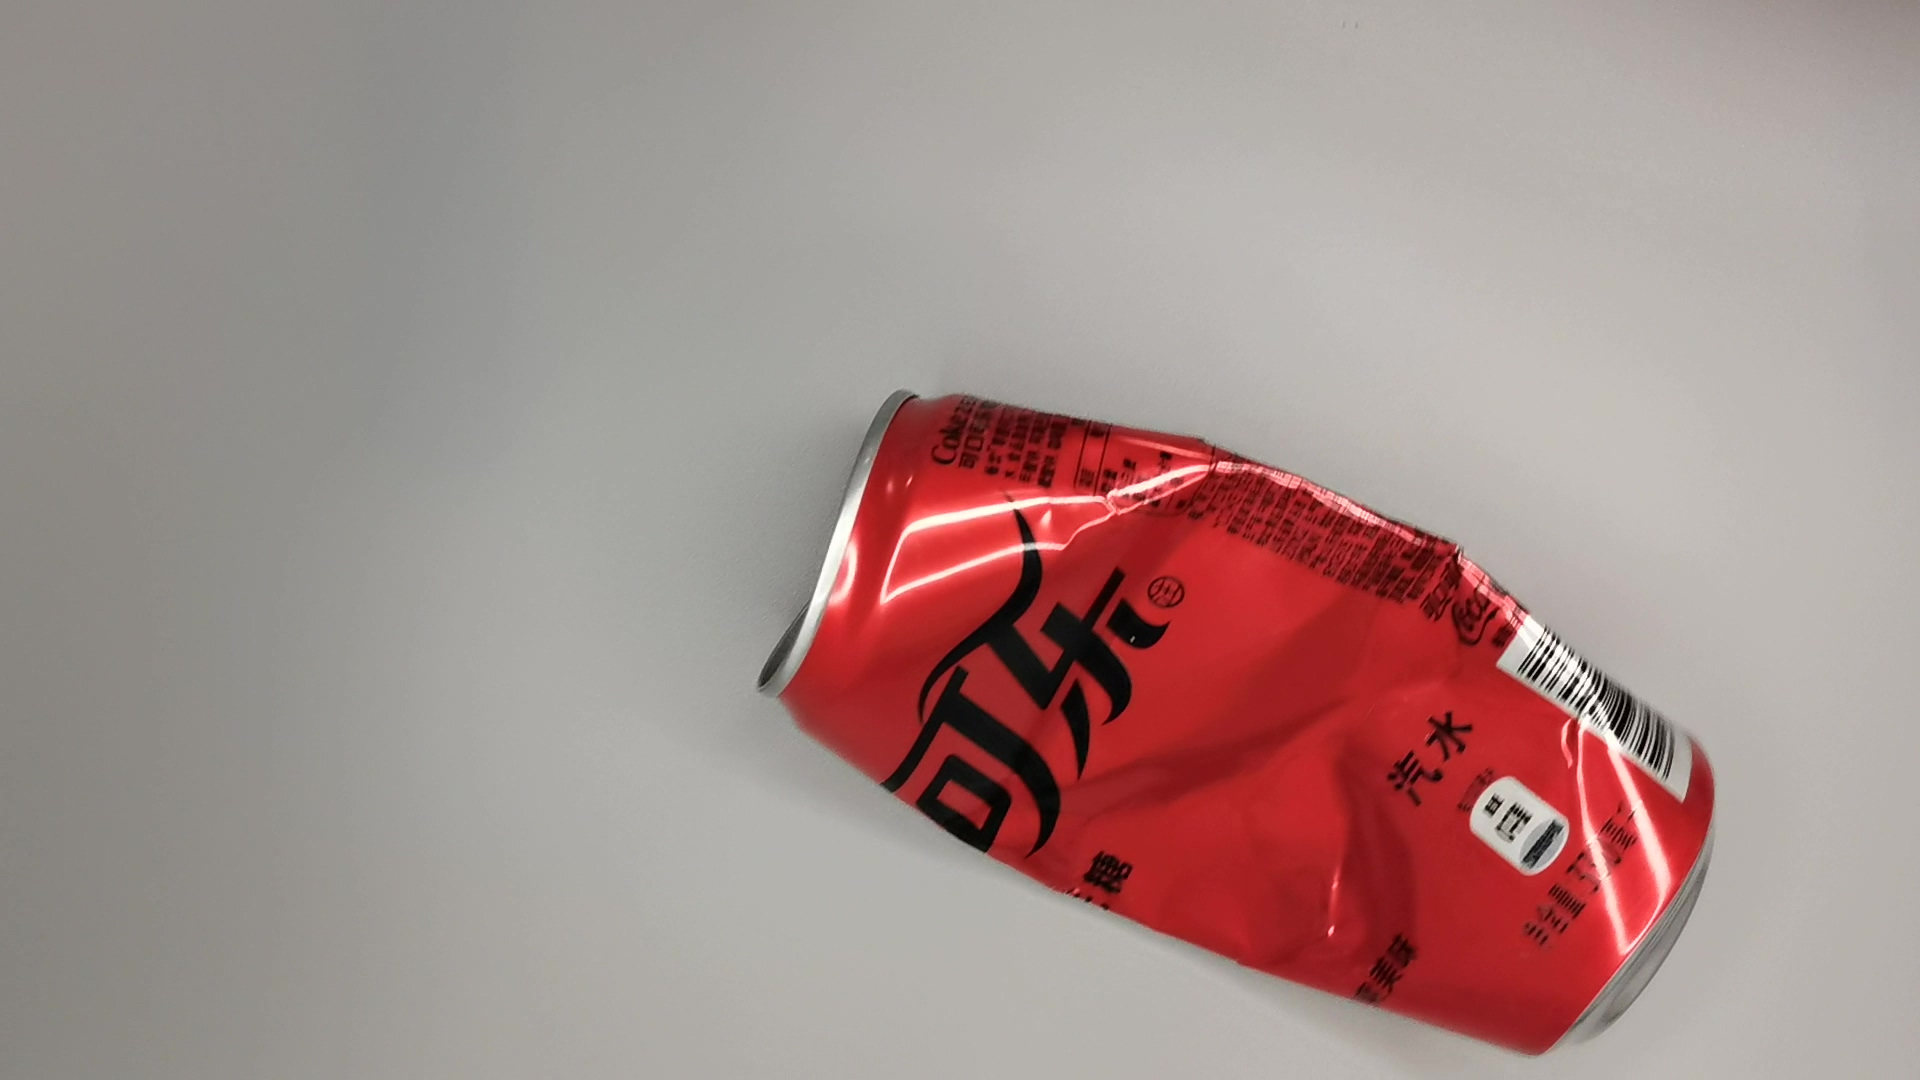can: (746, 372, 1725, 1058)
